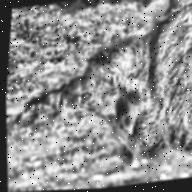boar: (44, 0, 192, 182)
